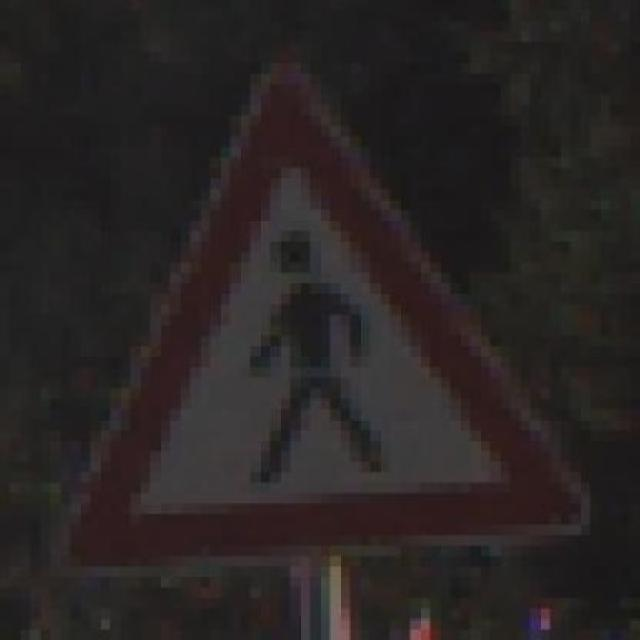Pedestrian Crossing: (60, 41, 611, 588)
